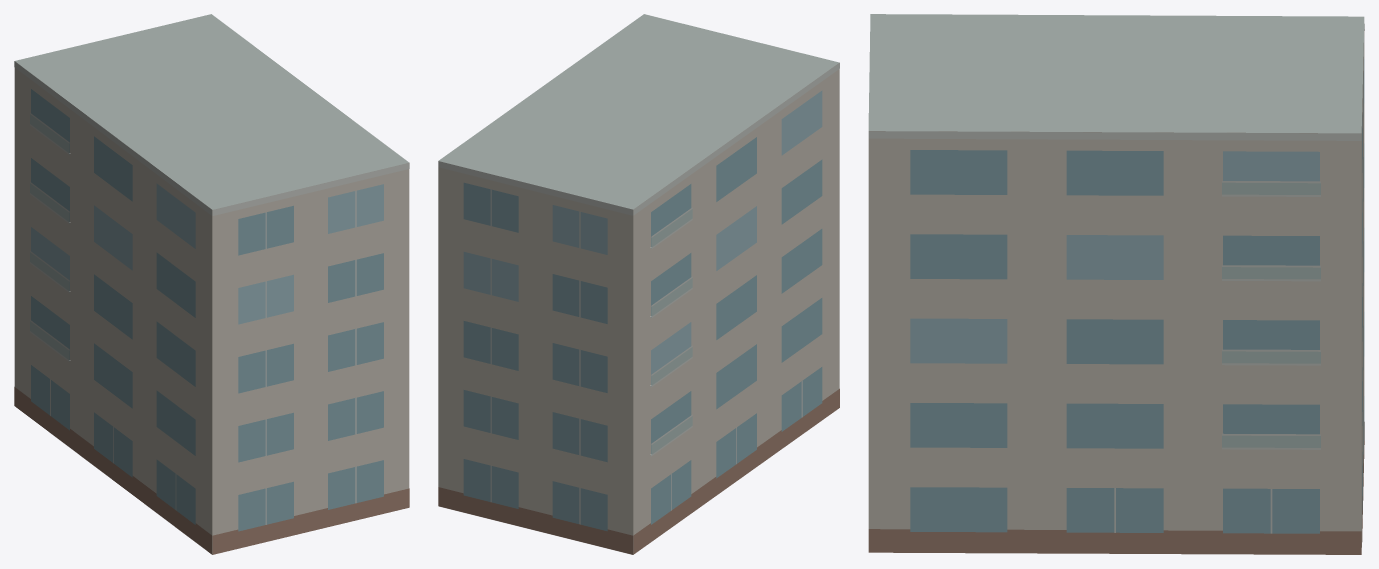
The model's file is survey-upis-32626890.glb.
The picture shows the model from 3 angles, left to right: view 1: azimuth 30°, elevation 25°; view 2: azimuth 150°, elevation 25°; view 3: azimuth 270°, elevation 25°; orthographic projection. The views are drawn at different scales.
Visible parts, largest first — view 1: survey-upis-32626890.tmp; view 2: survey-upis-32626890.tmp; view 3: survey-upis-32626890.tmp.
Part boxes in pixels (x1,y1,x2,y2): survey-upis-32626890.tmp: (14, 14, 409, 554); survey-upis-32626890.tmp: (438, 14, 839, 554); survey-upis-32626890.tmp: (868, 14, 1364, 554).
Size of the model in its own units: 8.23 by 13.5 by 14.41.
